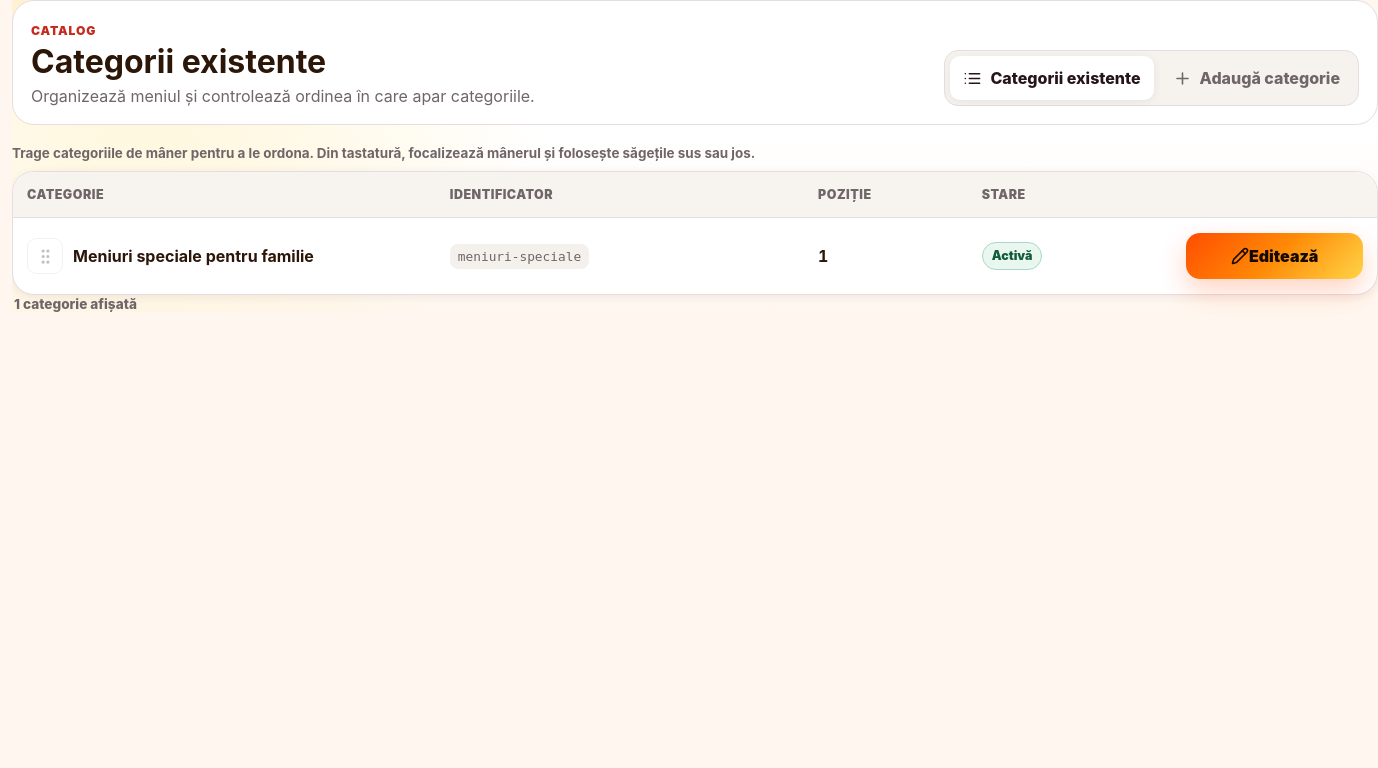
CategoriesPanel › opens the category editor only on request
The width and height of the screenshot is (1378, 768).
Click the button "Editează" at (1275, 256), box [1186,233,1363,279]
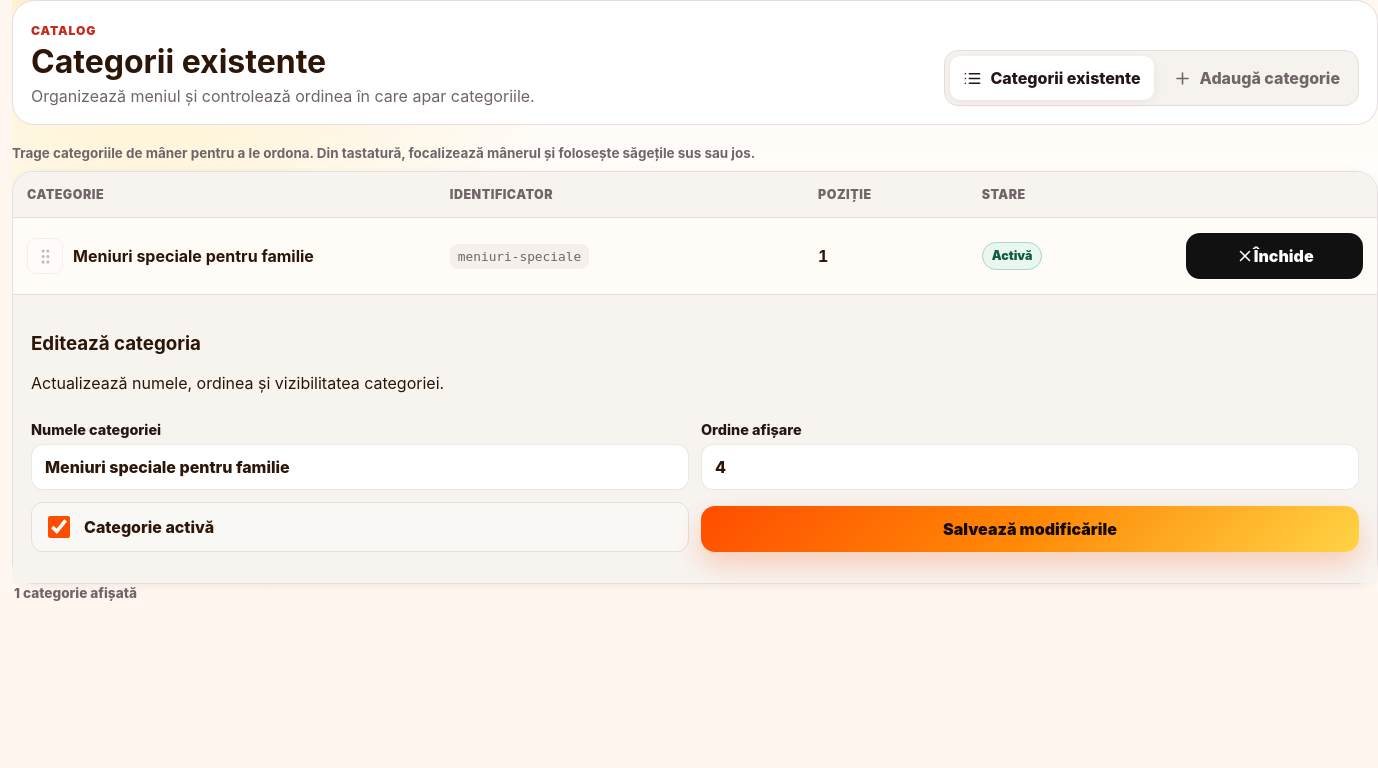
Expected: the heading "Editează categoria" is shown, [31,332,201,355]
Expected: the field labelled "Numele categoriei" holds "Meniuri speciale pentru familie", [31,444,689,490]
Expected: the checkbox labelled "Categorie activă" is checked, [48,516,70,538]
